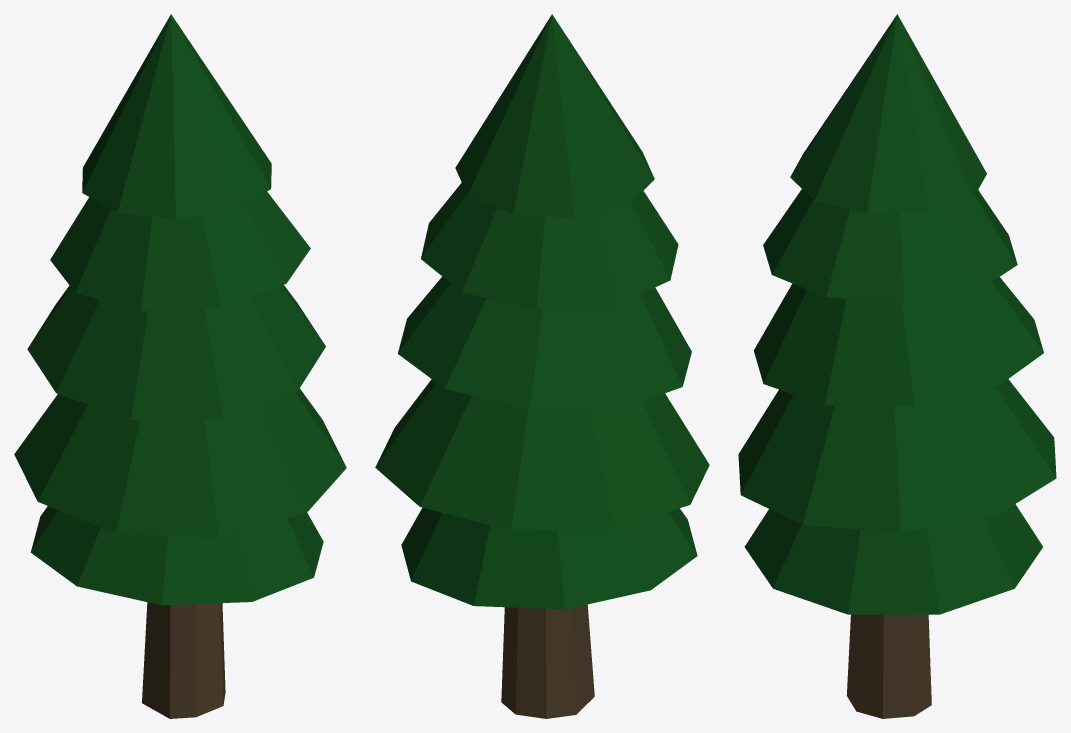
File: treedark.fbx
The picture shows the model from 3 angles, left to right: view 1: azimuth 30°, elevation 25°; view 2: azimuth 150°, elevation 25°; view 3: azimuth 270°, elevation 25°; orthographic projection.
Visible parts, largest first — view 1: treedark; view 2: treedark; view 3: treedark.
Part boxes in pixels (x1=…): treedark: x1=14, y1=14, x2=346, y2=718; treedark: x1=375, y1=14, x2=709, y2=718; treedark: x1=738, y1=14, x2=1056, y2=718.
Size of the model in its own units: 222 by 504 by 213.
